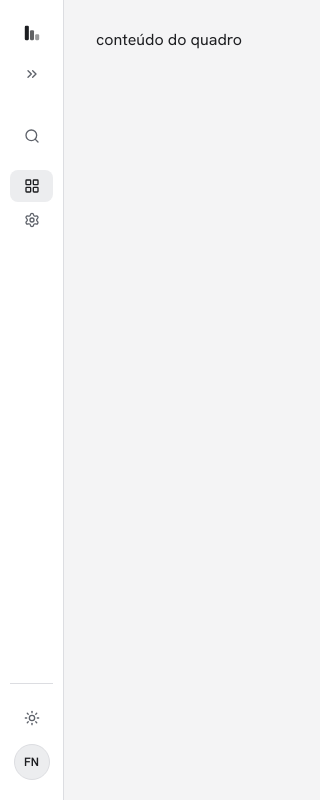
AppShell › mostra o MCP como subitem de Configurações no menu da conta (celular)
Step 1. Click the button with aria-label "Menu da conta de Fernando" → x=32, y=762, box [14, 744, 50, 780]
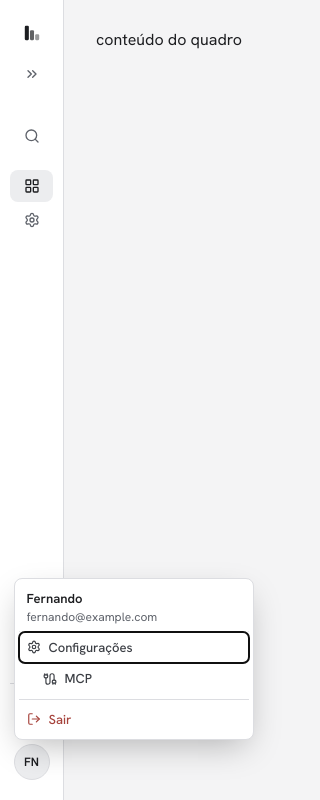
Check: the menu items read "Configurações", "MCP", "Sair", in this order
Step 2. Click the menu item "MCP" → x=134, y=679, box [18, 663, 248, 694]
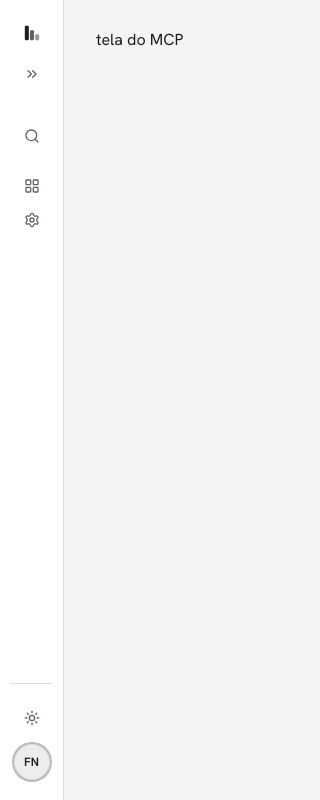
Check: the text "tela do MCP" is shown, box [96, 29, 183, 50]
